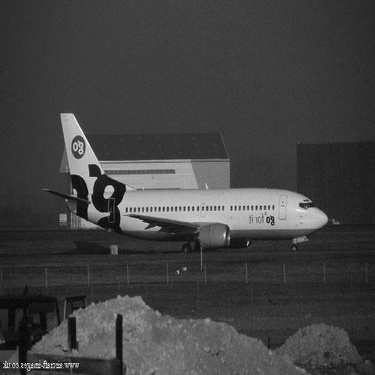airplane: (41, 104, 334, 264)
